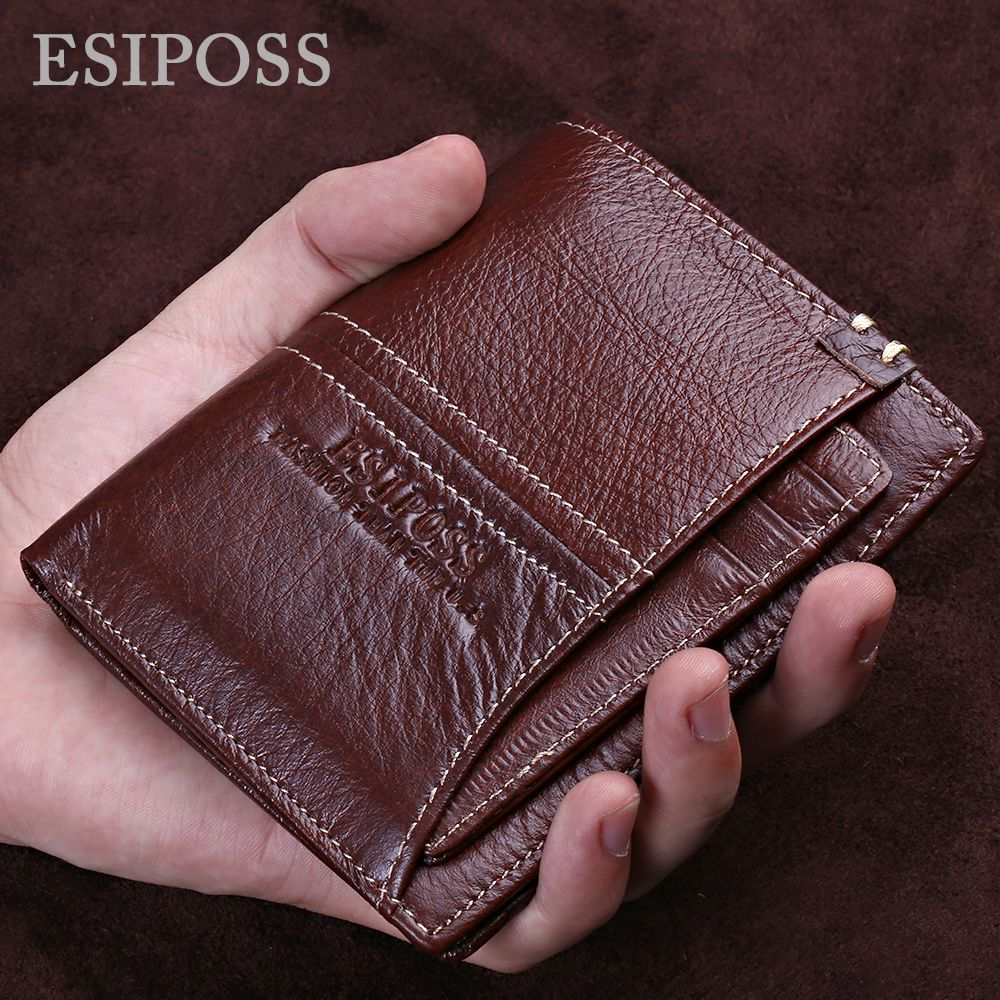monedero: (13, 105, 991, 971)
